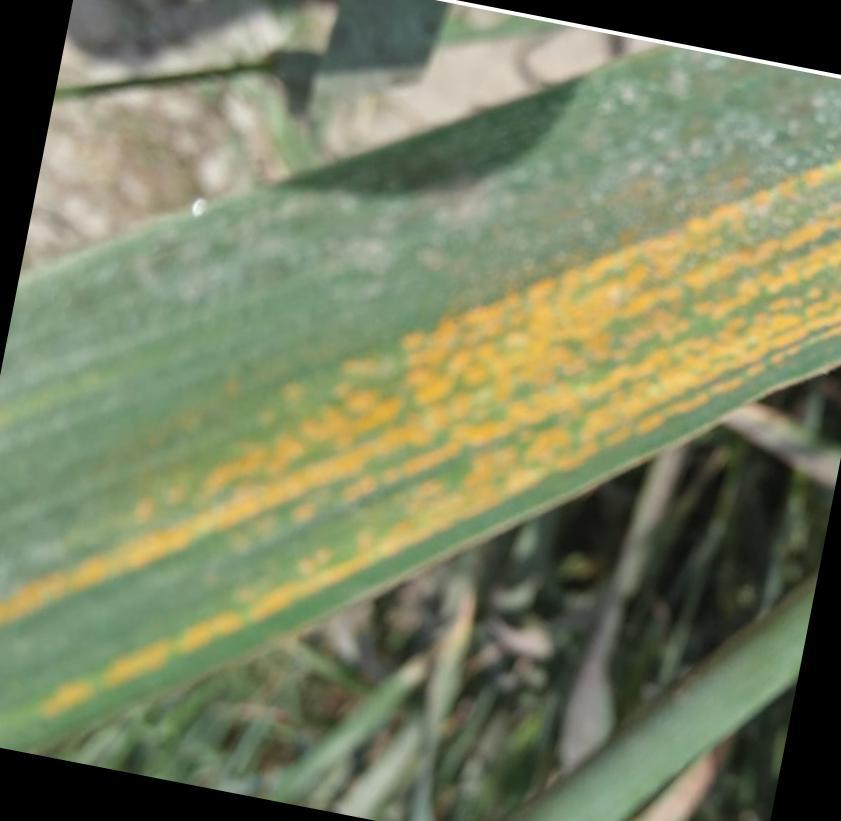Wheat: (260, 154, 838, 596)
